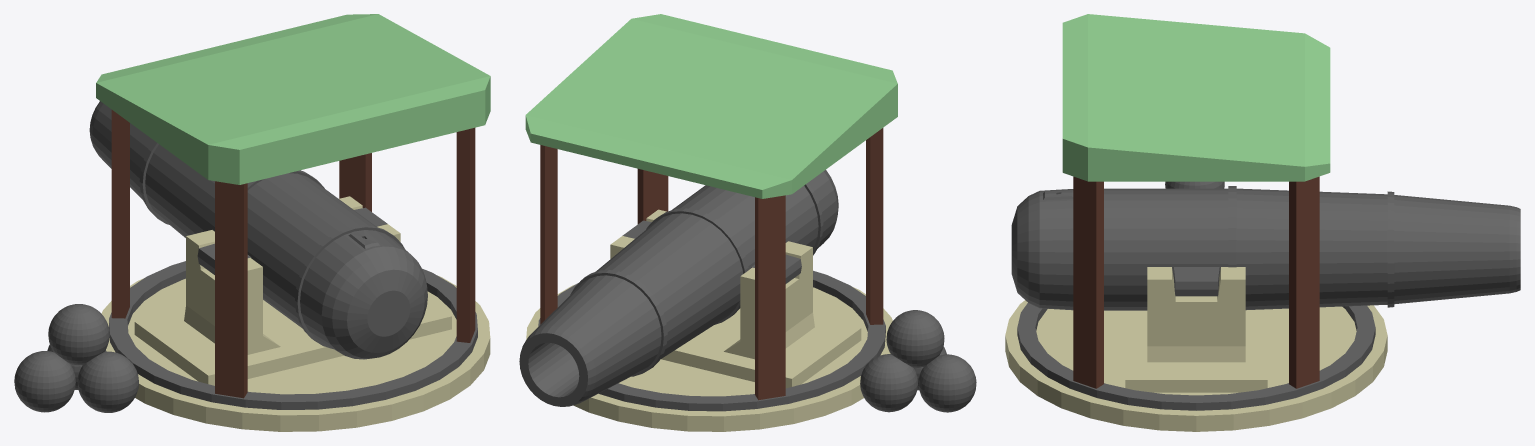
The model's file is Concept Model Cannon.fbx.
3 renders of one model, left to right at view 1: azimuth 30°, elevation 25°; view 2: azimuth 150°, elevation 25°; view 3: azimuth 270°, elevation 25°, orthographic. The views are drawn at different scales.
Parts seen in each view (by area): view 1: Cylinder; view 2: Cylinder; view 3: Cylinder.
Boxes of the visible parts, x1,y1,x2,y2 form: Cylinder: (14,14,490,431); Cylinder: (519,14,976,431); Cylinder: (1005,14,1520,431).
Bounding box in the file's own units: 508 × 304 × 524.
